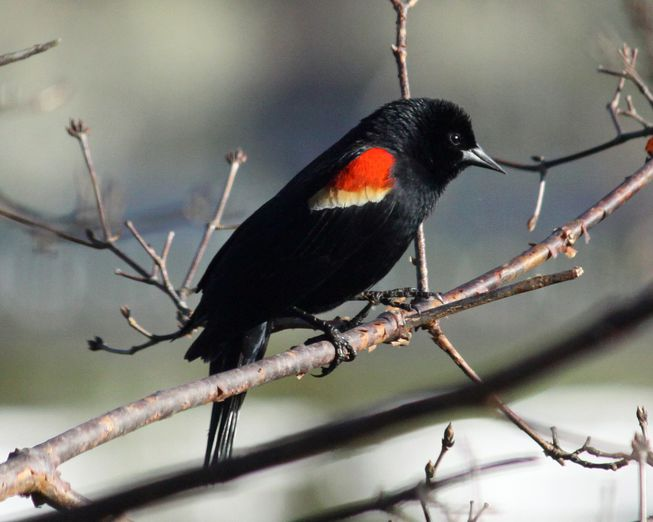bird: (202, 98, 468, 326)
